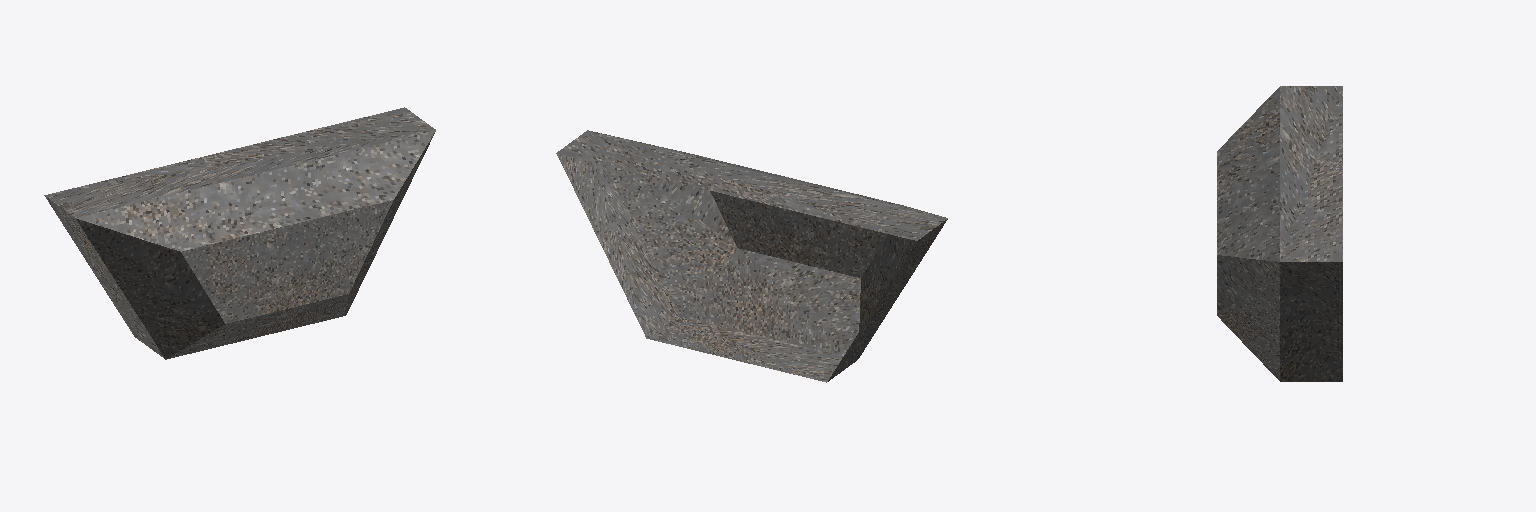
3 renders of one model, left to right at view 1: azimuth 30°, elevation 25°; view 2: azimuth 150°, elevation 25°; view 3: azimuth 270°, elevation 25°, orthographic.
Visible parts, largest first — view 1: hex; view 2: hex; view 3: hex.
Boxes of the visible parts, x1=… form: hex: x1=44, y1=107, x2=435, y2=359; hex: x1=556, y1=130, x2=947, y2=382; hex: x1=1217, y1=86, x2=1342, y2=381.
Size of the model in its own units: 2 by 0.866 by 0.6.
Materials: 1 (1 with a texture image).